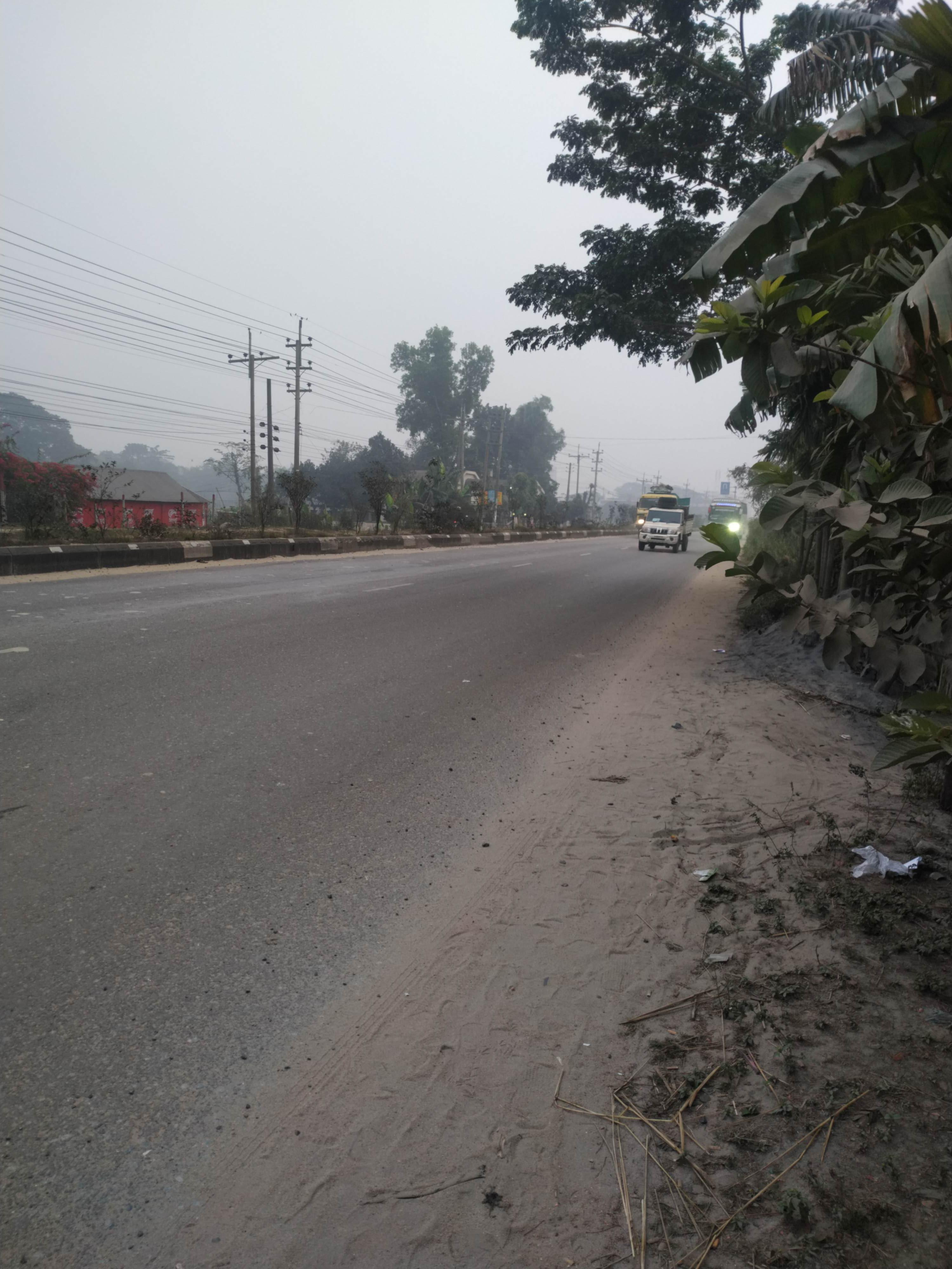Bus: (707, 488, 755, 550)
Truck: (638, 502, 704, 574)
